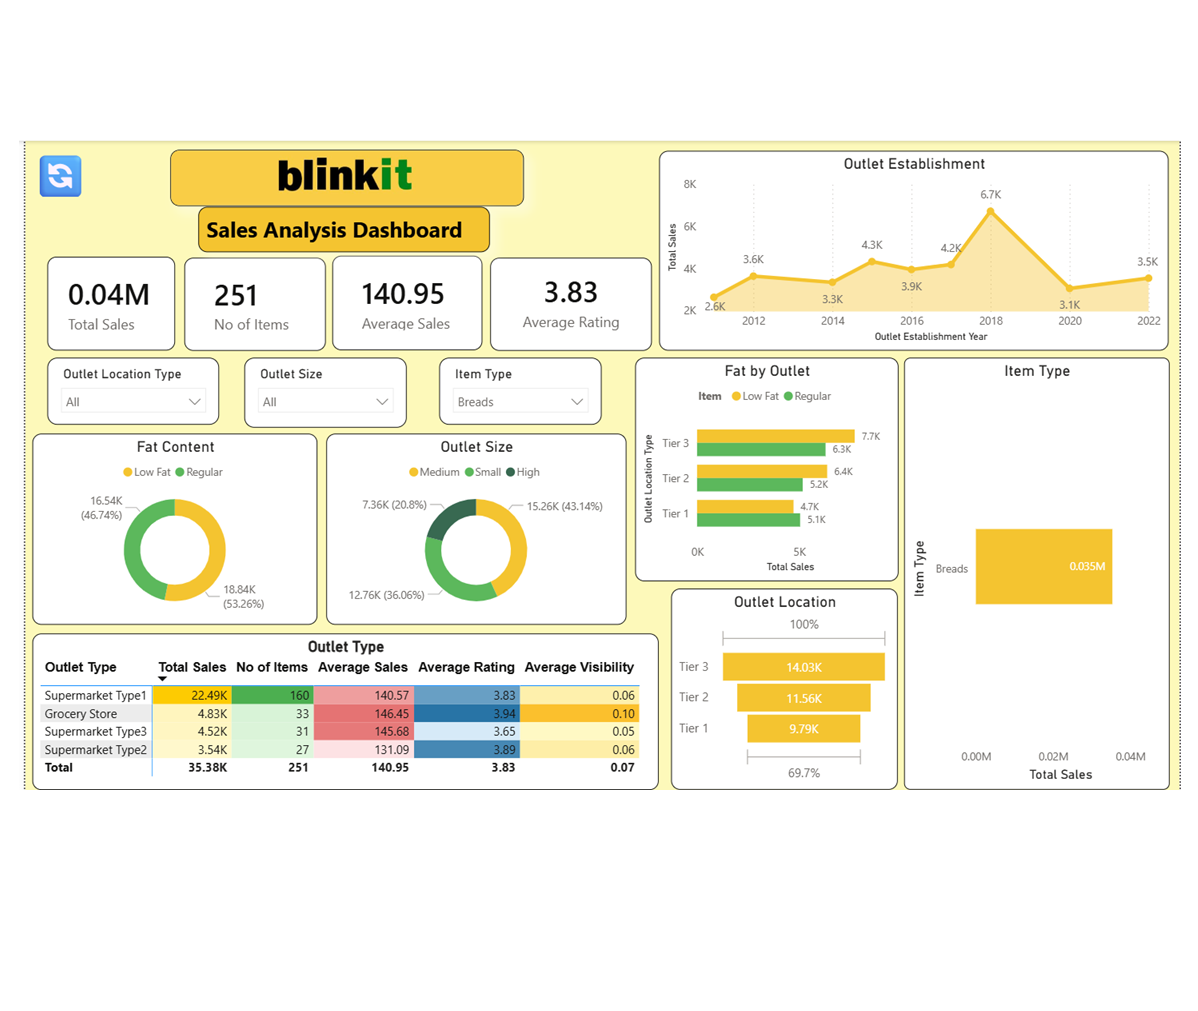

This screenshot's page, from the dashboard's own definition file:
{"tool":"powerbi","page":{"name":"Page 1","canvas":[1280,720],"ordinal":0},"visuals":[{"type":"cardVisual","fields":{"Data":["BlinkIT Grocery Data.Total Sales"]},"box":[24.4,128.6,141.9,104.2],"z":0},{"type":"cardVisual","fields":{"Data":["BlinkIT Grocery Data.Average Sales"]},"box":[340.7,127.9,166.3,104.7],"z":1000},{"type":"cardVisual","fields":{"Data":["BlinkIT Grocery Data.Average Rating"]},"box":[515.1,130.2,179.1,103.5],"z":2000},{"type":"cardVisual","fields":{"Data":["BlinkIT Grocery Data.No of Items"]},"box":[176.7,130.2,157,103.5],"z":3000},{"type":"slicer","fields":{"Values":["BlinkIT Grocery Data.Outlet Location Type"]},"box":[24.4,240.7,190.7,74.4],"z":4000},{"type":"slicer","fields":{"Values":["BlinkIT Grocery Data.Outlet Size"]},"box":[243,240.7,180.2,77.9],"z":5000},{"type":"slicer","fields":{"Values":["BlinkIT Grocery Data.Item Type"]},"box":[459.3,240.7,180.2,74.4],"z":6000},{"type":"areaChart","title":"Outlet Establishment","fields":{"Y":["BlinkIT Grocery Data.Total Sales"],"Category":["BlinkIT Grocery Data.Outlet Establishment Year"]},"box":[702.6,11.1,564.9,221.2],"z":7000},{"type":"donutChart","title":"Fat Content","fields":{"Category":["BlinkIT Grocery Data.Item Fat Content"],"Y":["BlinkIT Grocery Data.Total Sales"]},"box":[8.1,324.4,316.3,211.6],"z":8000},{"type":"clusteredBarChart","title":"Item Type","fields":{"Y":["BlinkIT Grocery Data.Total Sales"],"Category":["BlinkIT Grocery Data.Item Type"]},"box":[974.4,240.7,294.2,479.1],"z":9000},{"type":"donutChart","title":"Outlet Size","fields":{"Y":["BlinkIT Grocery Data.Total Sales"],"Category":["BlinkIT Grocery Data.Outlet Size"]},"box":[333.7,324.4,332.6,211.6],"z":10000},{"type":"funnel","title":"Outlet Location","fields":{"Category":["BlinkIT Grocery Data.Outlet Location Type"],"Y":["BlinkIT Grocery Data.Total Sales"]},"box":[716.3,496.5,251.2,223.3],"z":11000},{"type":"clusteredBarChart","title":"Fat by Outlet","fields":{"Category":["BlinkIT Grocery Data.Outlet Location Type"],"Y":["BlinkIT Grocery Data.Total Sales"],"Series":["BlinkIT Grocery Data.Item Fat Content"]},"box":[675.6,240.7,291.9,247.7],"z":12000},{"type":"pivotTable","title":"Outlet Type","fields":{"Rows":["BlinkIT Grocery Data.Outlet Type"],"Values":["BlinkIT Grocery Data.Total Sales","BlinkIT Grocery Data.No of Items","BlinkIT Grocery Data.Average Sales","BlinkIT Grocery Data.Average Rating","BlinkIT Grocery Data.Average Visibility"]},"box":[8.1,546.5,694.2,173.3],"z":13000},{"type":"image","box":[160.5,10.5,391.9,62.8],"z":14000},{"type":"textbox","box":[191.9,73.3,323.3,50],"z":15000},{"type":"actionButton","box":[0,0,77.9,73.7],"z":15001}]}

Visuals, with their boxes in screenshot pixels (x1, y1, x2, y2):
cardVisual - BlinkIT Grocery Data.Total Sales: [x1=56, y1=255, x2=182, y2=348]
cardVisual - BlinkIT Grocery Data.Average Sales: [x1=338, y1=254, x2=486, y2=347]
cardVisual - BlinkIT Grocery Data.Average Rating: [x1=493, y1=256, x2=652, y2=348]
cardVisual - BlinkIT Grocery Data.No of Items: [x1=192, y1=256, x2=331, y2=348]
slicer - BlinkIT Grocery Data.Outlet Location Type: [x1=56, y1=355, x2=226, y2=421]
slicer - BlinkIT Grocery Data.Outlet Size: [x1=251, y1=355, x2=411, y2=424]
slicer - BlinkIT Grocery Data.Item Type: [x1=443, y1=355, x2=604, y2=421]
"Outlet Establishment" areaChart: [x1=660, y1=150, x2=1163, y2=347]
"Fat Content" donutChart: [x1=42, y1=429, x2=323, y2=618]
"Item Type" clusteredBarChart: [x1=902, y1=355, x2=1164, y2=781]
"Outlet Size" donutChart: [x1=331, y1=429, x2=628, y2=618]
"Outlet Location" funnel: [x1=672, y1=582, x2=896, y2=781]
"Fat by Outlet" clusteredBarChart: [x1=636, y1=355, x2=896, y2=575]
"Outlet Type" pivotTable: [x1=42, y1=627, x2=660, y2=781]
image: [x1=177, y1=150, x2=526, y2=206]
textbox: [x1=205, y1=206, x2=493, y2=250]
actionButton: [x1=34, y1=140, x2=104, y2=206]
